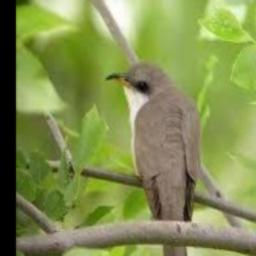Cuckoo: (105, 62, 204, 256)
